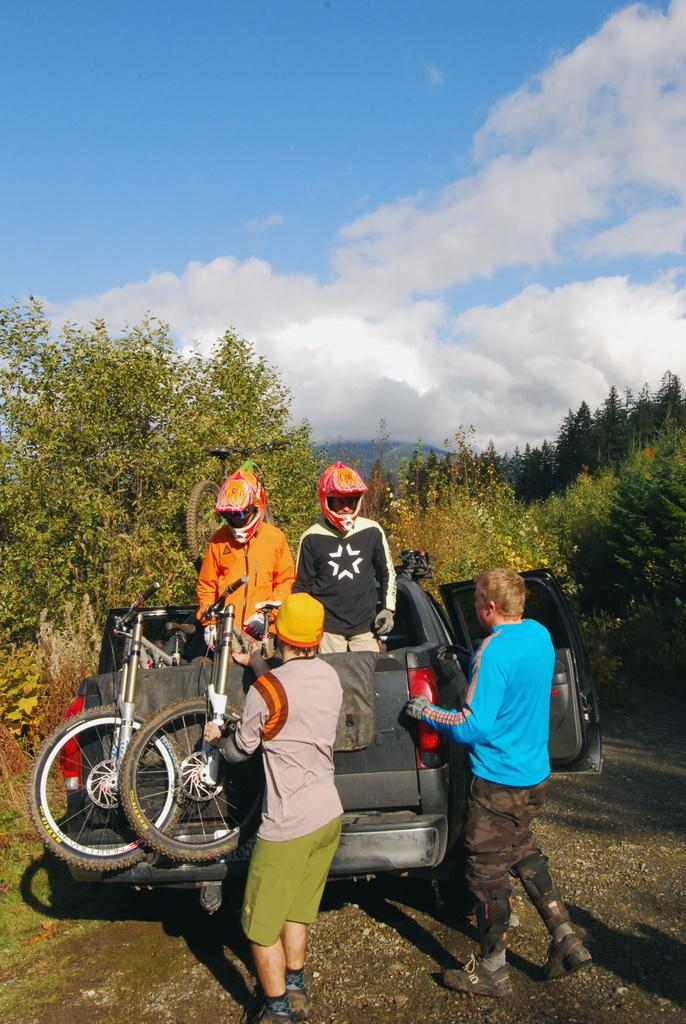helmet: (214, 469, 267, 544), (317, 460, 370, 533)
nohelmet: (274, 592, 326, 661), (473, 567, 526, 632)
